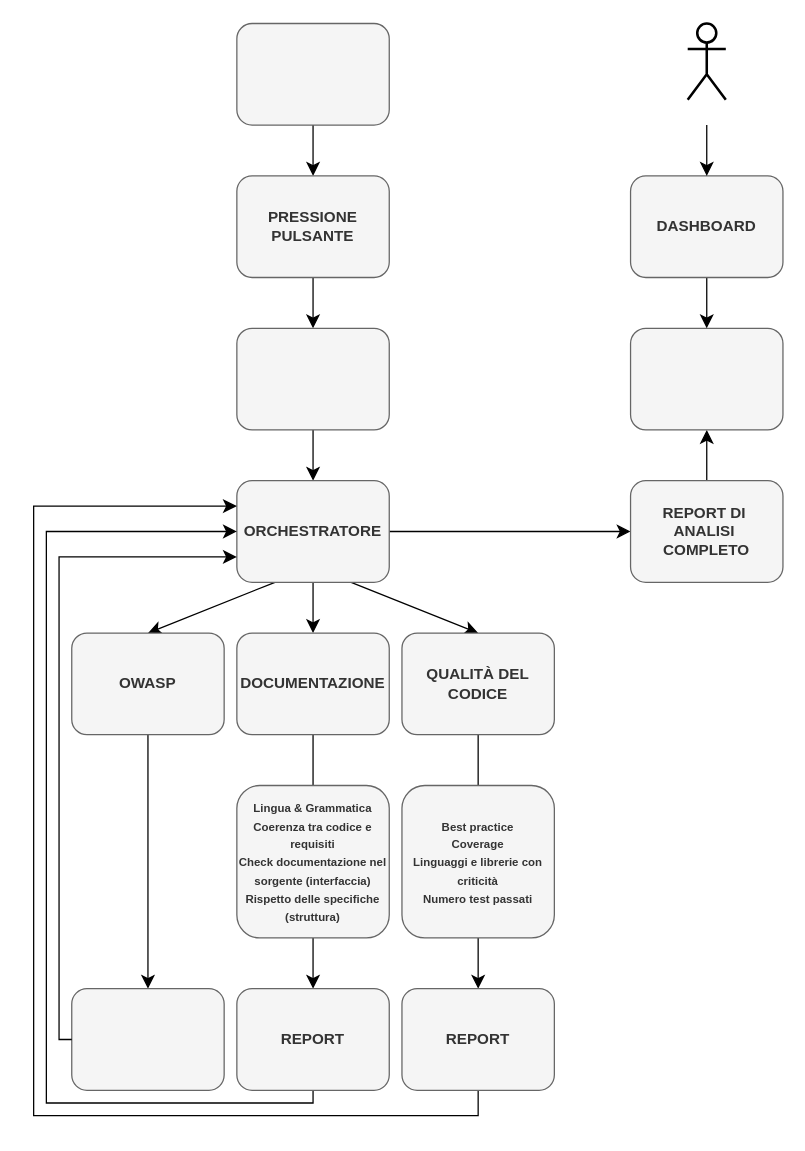
This 805x1151 diagram has some shape labels left out. The shapes that lost their labels are listed below. From the top down, each one's box as (x1, y1, x2, y2) in pixels, then its label:
(236, 22, 389, 125): REPO 1
(686, 22, 726, 100): Actor
(236, 327, 389, 430): FILTRI
(629, 327, 783, 430): DATABASE
(70, 987, 224, 1090): CRITICITÀ
